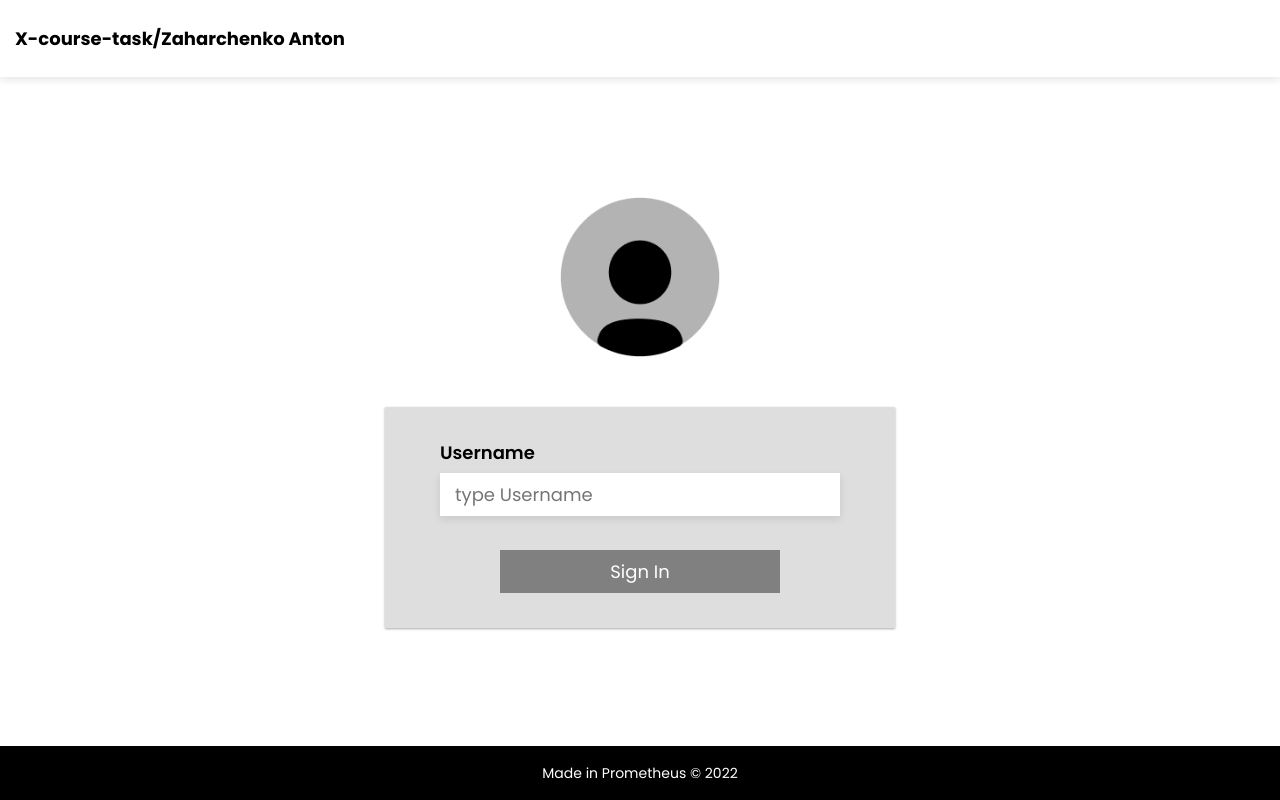
SignIn › should display an error message when an invalid username is entered
Type "invalid username" into the field with test id "username".
click(640, 494); type("invalid username")  # box [440, 473, 840, 516]
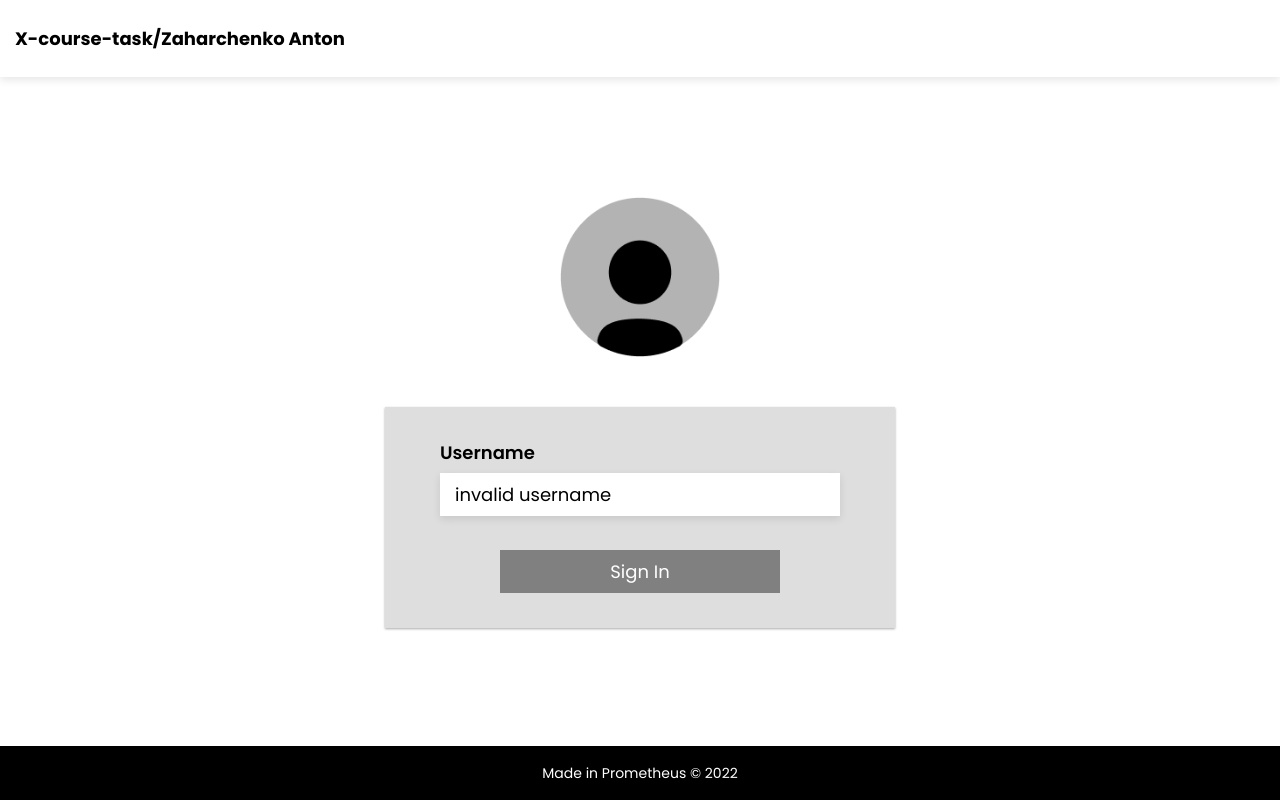
Leave the field with test id "username", box [440, 473, 840, 516]
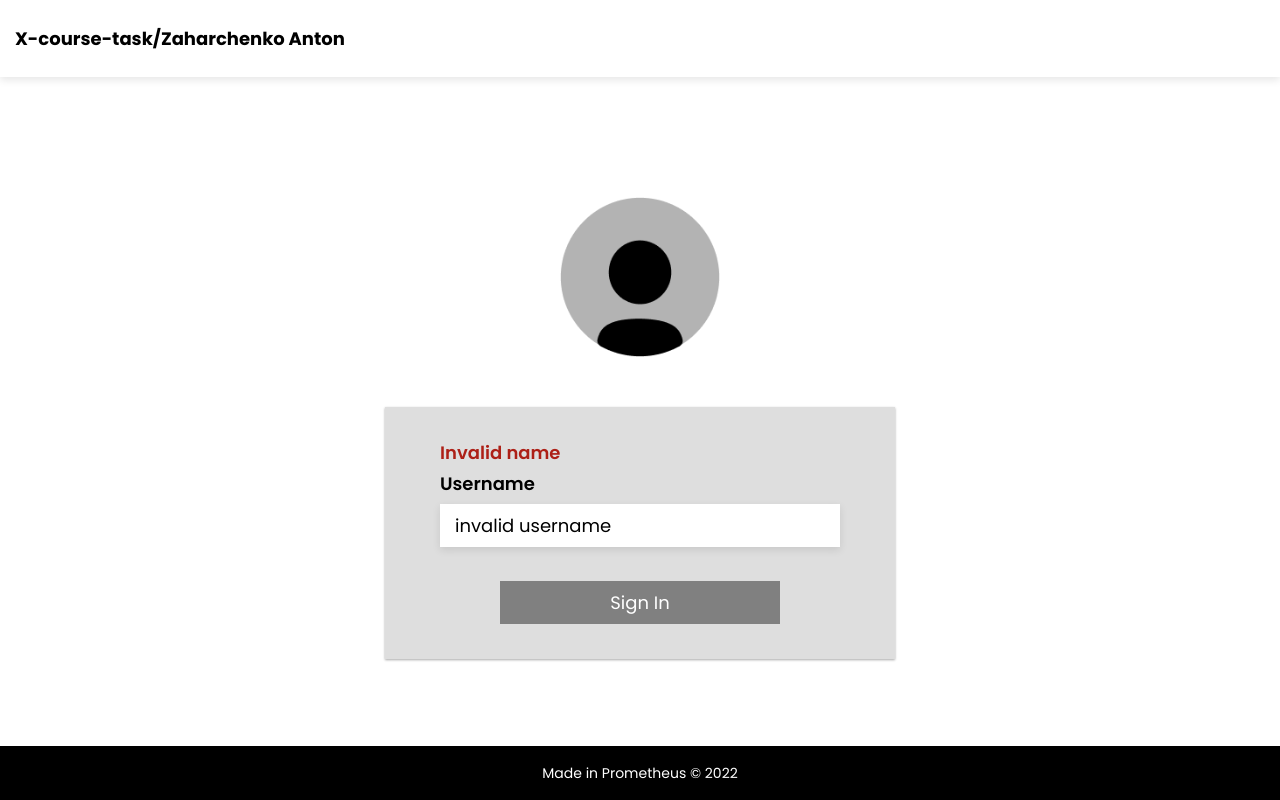
Expected: the text "Invalid name" is shown, [440, 440, 560, 465]
